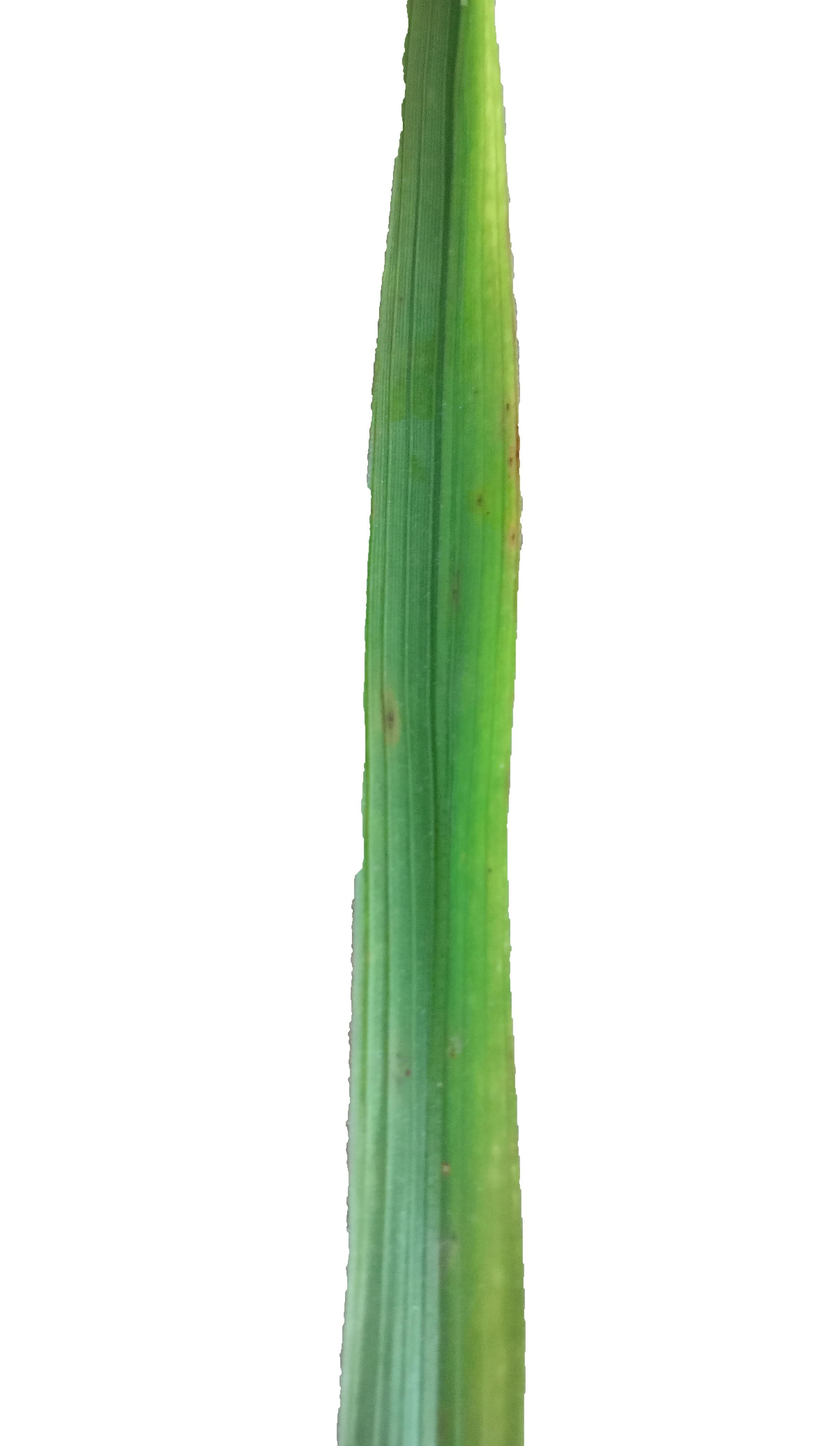Tungro: (455, 14, 511, 271)
